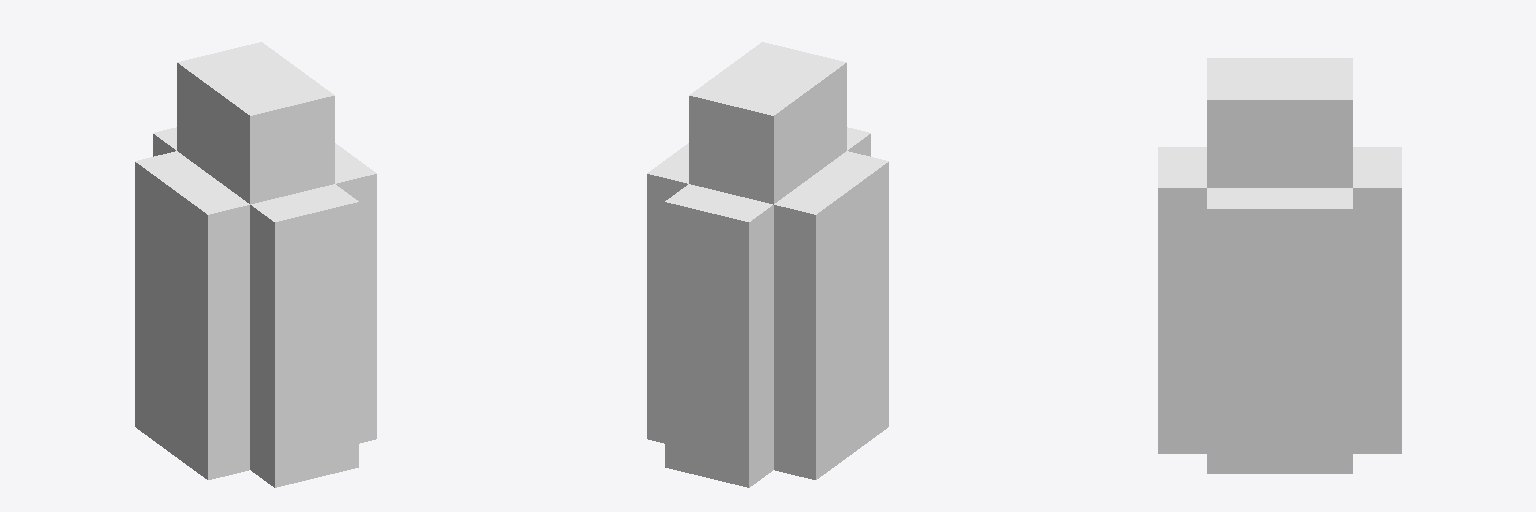
Rendered from male-62.obj.
3 renders of one model, left to right at view 1: azimuth 30°, elevation 25°; view 2: azimuth 150°, elevation 25°; view 3: azimuth 270°, elevation 25°, orthographic.
Parts seen in each view (by area): view 1: object 1; view 2: object 1; view 3: object 1.
Boxes of the visible parts, x1=… form: object 1: x1=135, y1=42, x2=376, y2=487; object 1: x1=647, y1=42, x2=888, y2=487; object 1: x1=1158, y1=58, x2=1401, y2=473.
Bounding box in the file's own units: 0.4 × 0.8 × 0.5.